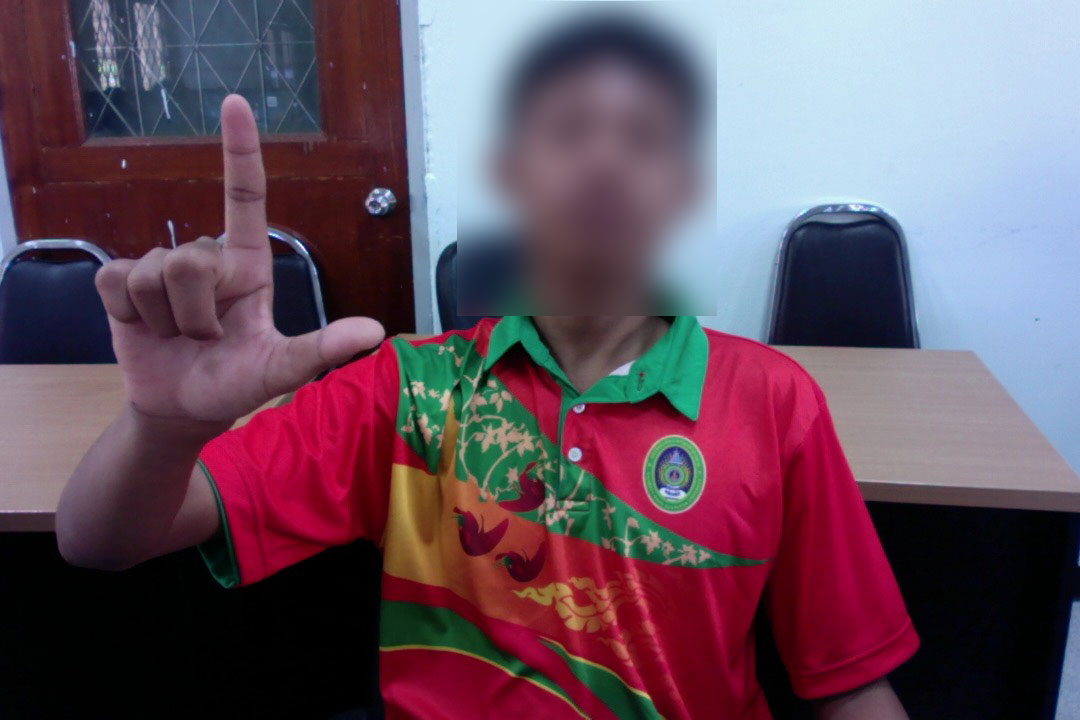lor: (77, 80, 398, 438)
